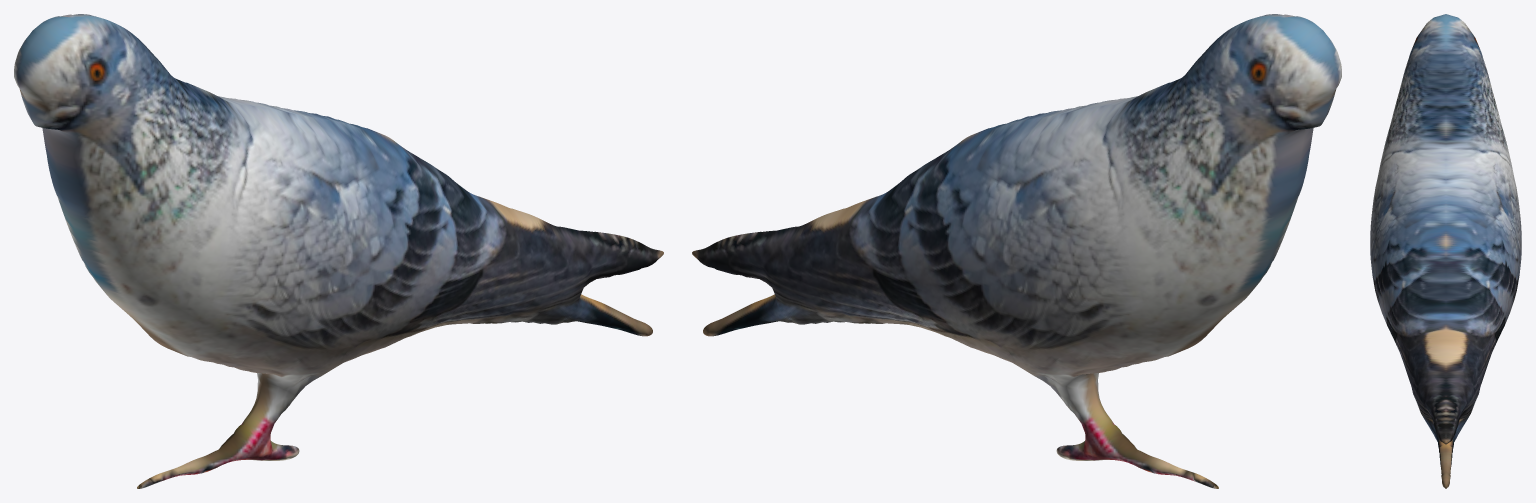
The picture shows the model from 3 angles, left to right: view 1: azimuth 30°, elevation 25°; view 2: azimuth 150°, elevation 25°; view 3: azimuth 270°, elevation 25°; orthographic projection. The views are drawn at different scales.
Parts seen in each view (by area): view 1: ff6f25e9-3b24-409a-ae02-53047518d0a4; view 2: ff6f25e9-3b24-409a-ae02-53047518d0a4; view 3: ff6f25e9-3b24-409a-ae02-53047518d0a4.
Boxes of the visible parts, x1,y1,x2,y2 form: ff6f25e9-3b24-409a-ae02-53047518d0a4: (14,14,663,488); ff6f25e9-3b24-409a-ae02-53047518d0a4: (692,14,1341,488); ff6f25e9-3b24-409a-ae02-53047518d0a4: (1370,14,1521,488).
Size of the model in its own units: 3.84 by 2.81 by 1.23.
Materials: 1 (1 with a texture image).
